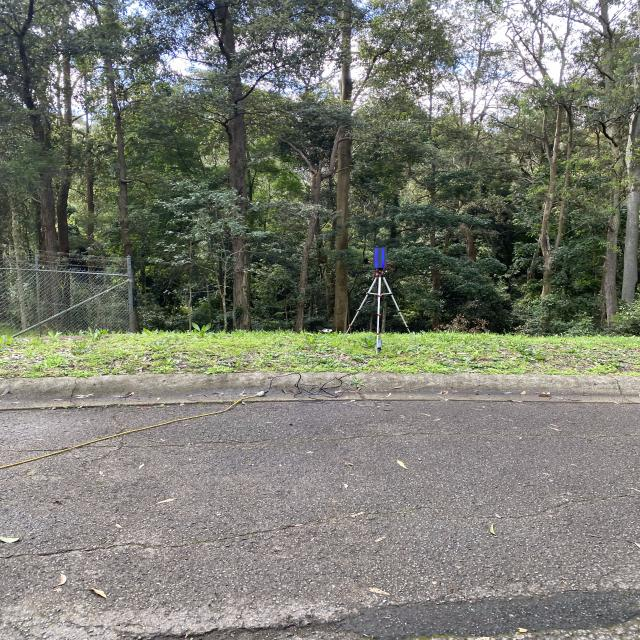matrix: (372, 247, 387, 268)
